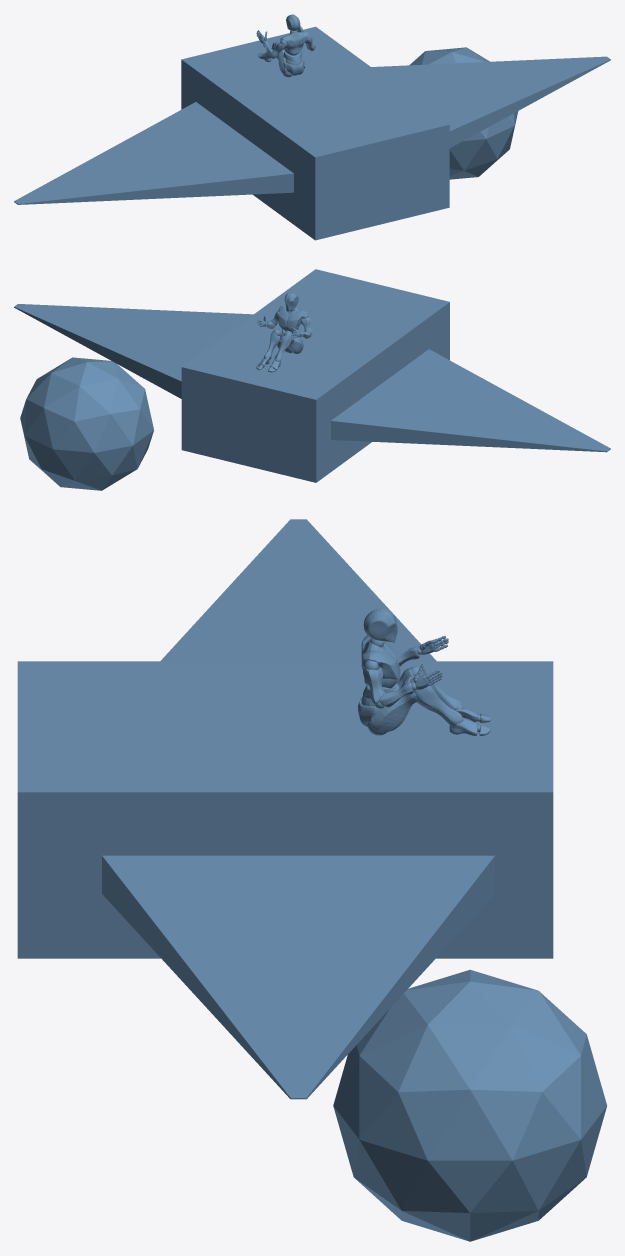
Rendered from aerial-seated.glb.
The picture shows the model from 3 angles, top to bottom: view 1: azimuth 30°, elevation 25°; view 2: azimuth 150°, elevation 25°; view 3: azimuth 270°, elevation 25°; orthographic projection. The views are drawn at different scales.
Visible parts, largest first — view 1: xier120.aerial-seated.mesh.005, xier120.aerial-seated.mesh.003, xier120.aerial-seated.mesh.000, xier120.aerial-seated.mesh.001, xier120.aerial-seated.mesh.004, xier120.aerial-seated.mesh.002; view 2: xier120.aerial-seated.mesh.005, xier120.aerial-seated.mesh.003, xier120.aerial-seated.mesh.001, xier120.aerial-seated.mesh.000, xier120.aerial-seated.mesh.004; view 3: xier120.aerial-seated.mesh.005, xier120.aerial-seated.mesh.000, xier120.aerial-seated.mesh.001, xier120.aerial-seated.mesh.003, xier120.aerial-seated.mesh.004, xier120.aerial-seated.mesh.002.
Boxes of the visible parts, x1=… form: xier120.aerial-seated.mesh.005: x1=181, y1=26, x2=449, y2=240; xier120.aerial-seated.mesh.003: x1=14, y1=102, x2=293, y2=204; xier120.aerial-seated.mesh.000: x1=371, y1=56, x2=610, y2=147; xier120.aerial-seated.mesh.001: x1=409, y1=47, x2=518, y2=179; xier120.aerial-seated.mesh.004: x1=256, y1=14, x2=315, y2=75; xier120.aerial-seated.mesh.002: x1=257, y1=26, x2=314, y2=77; xier120.aerial-seated.mesh.005: x1=181, y1=269, x2=449, y2=482; xier120.aerial-seated.mesh.003: x1=331, y1=349, x2=610, y2=452; xier120.aerial-seated.mesh.001: x1=20, y1=357, x2=153, y2=490; xier120.aerial-seated.mesh.000: x1=14, y1=304, x2=253, y2=398; xier120.aerial-seated.mesh.004: x1=256, y1=292, x2=312, y2=372; xier120.aerial-seated.mesh.005: x1=17, y1=661, x2=553, y2=958; xier120.aerial-seated.mesh.000: x1=102, y1=855, x2=494, y2=1099; xier120.aerial-seated.mesh.001: x1=333, y1=969, x2=607, y2=1241; xier120.aerial-seated.mesh.003: x1=160, y1=519, x2=436, y2=661; xier120.aerial-seated.mesh.004: x1=357, y1=608, x2=490, y2=735; xier120.aerial-seated.mesh.002: x1=361, y1=637, x2=480, y2=735.
Size of the model in its own units: 10 by 3.57 by 4.3.
